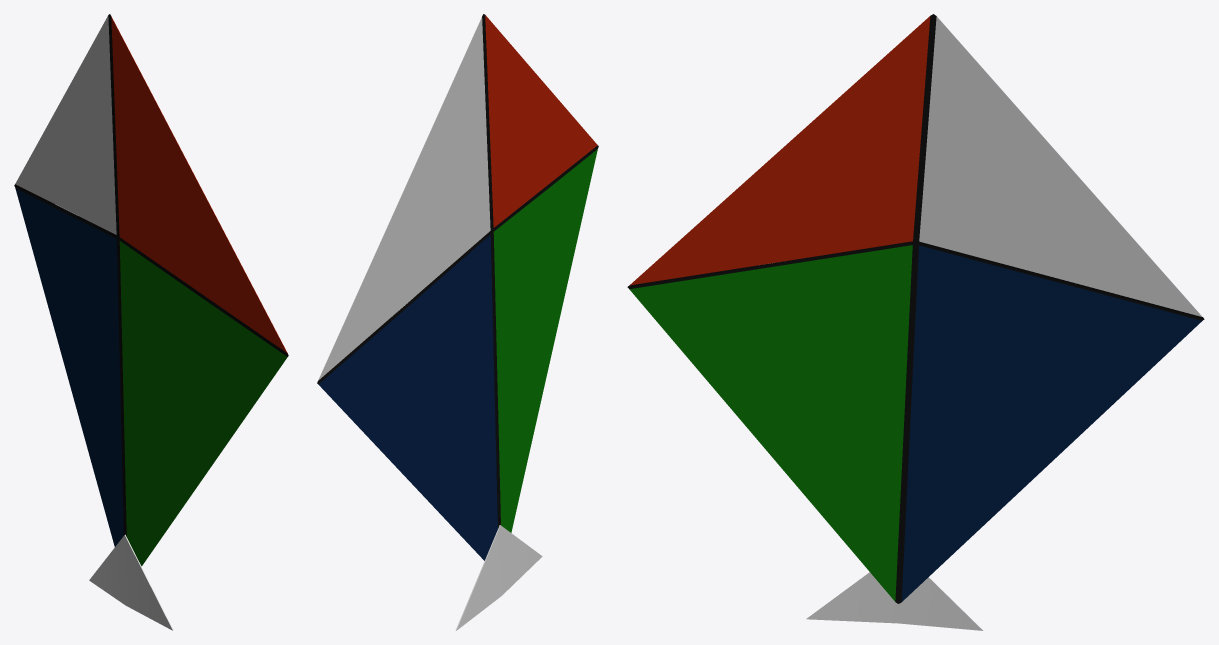
Rendered from Kite-1.fbx.
3 renders of one model, left to right at view 1: azimuth 30°, elevation 25°; view 2: azimuth 150°, elevation 25°; view 3: azimuth 270°, elevation 25°, orthographic. The views are drawn at different scales.
Visible parts, largest first — view 1: Object001, Plane001; view 2: Object001, Plane001; view 3: Object001, Plane001.
Boxes of the visible parts, left/top/right/bottom form: Object001: left=14, top=14, right=288, bottom=566; Plane001: left=89, top=534, right=173, bottom=630; Object001: left=317, top=14, right=598, bottom=560; Plane001: left=455, top=525, right=542, bottom=630; Object001: left=627, top=14, right=1204, bottom=603; Plane001: left=806, top=572, right=983, bottom=630.
Bounding box in the file's own units: 0.0203 × 0.3297 × 0.2805.
